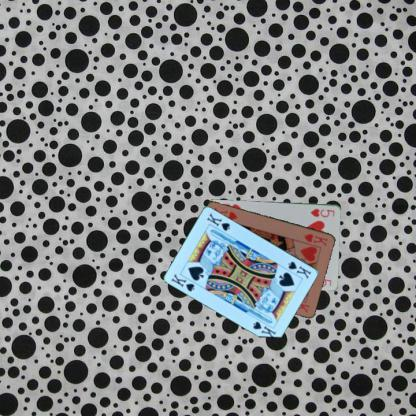5h: (308, 206, 336, 218)
Kh: (301, 231, 328, 247)
Ks: (169, 271, 196, 293), (286, 259, 312, 280)
